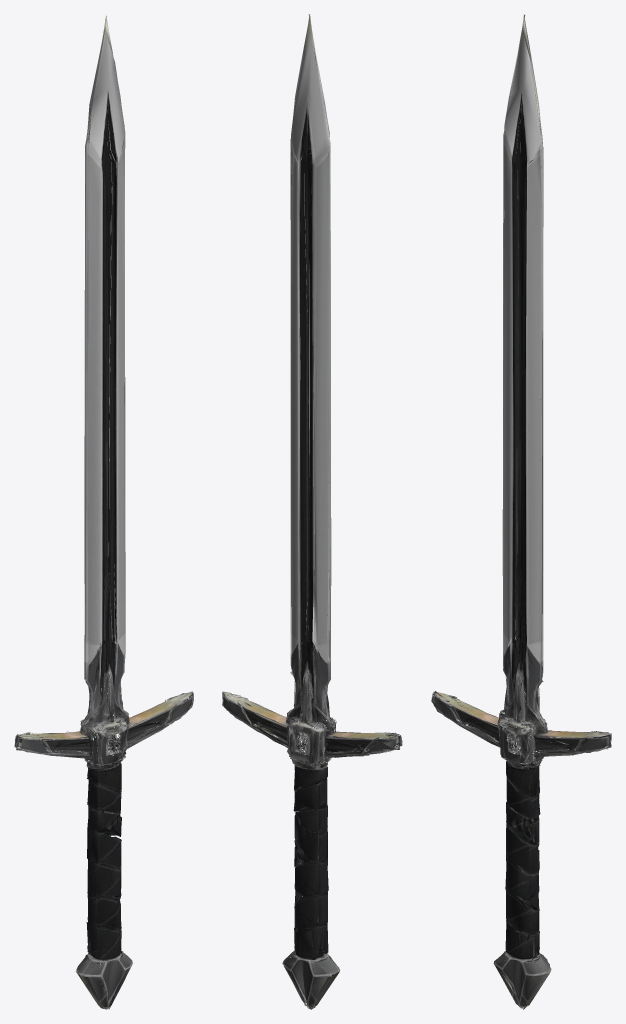
Rendered from SwordShadow_Phase1.glb.
3 views of the same model, side by side, from view 1: azimuth 30°, elevation 25°; view 2: azimuth 150°, elevation 25°; view 3: azimuth 330°, elevation 25° (orthographic).
Parts seen in each view (by area): view 1: SwordBrick_Phase1; view 2: SwordBrick_Phase1; view 3: SwordBrick_Phase1.
Part boxes in pixels (left/top/right/bottom): SwordBrick_Phase1: left=14, top=15, right=193, bottom=1009; SwordBrick_Phase1: left=222, top=14, right=402, bottom=1009; SwordBrick_Phase1: left=431, top=14, right=611, bottom=1009.
Size of the model in its own units: 0.6389 by 3.39 by 0.1541.
1 material, 1 textured.
